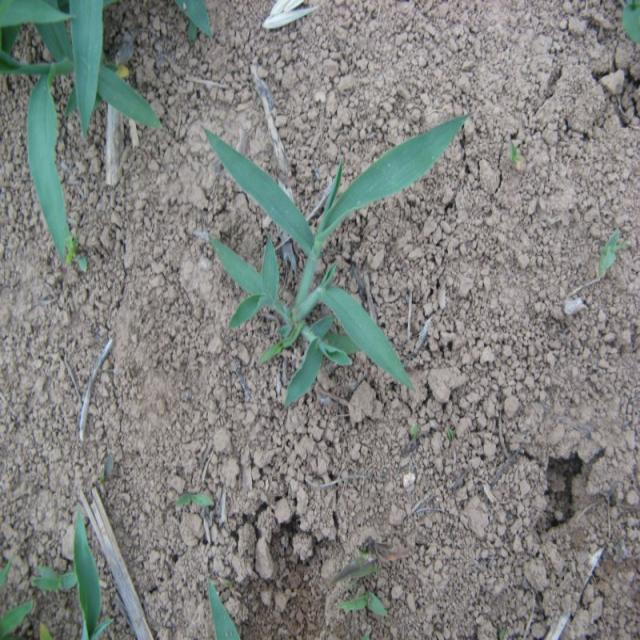bg: (202, 116, 465, 407)
